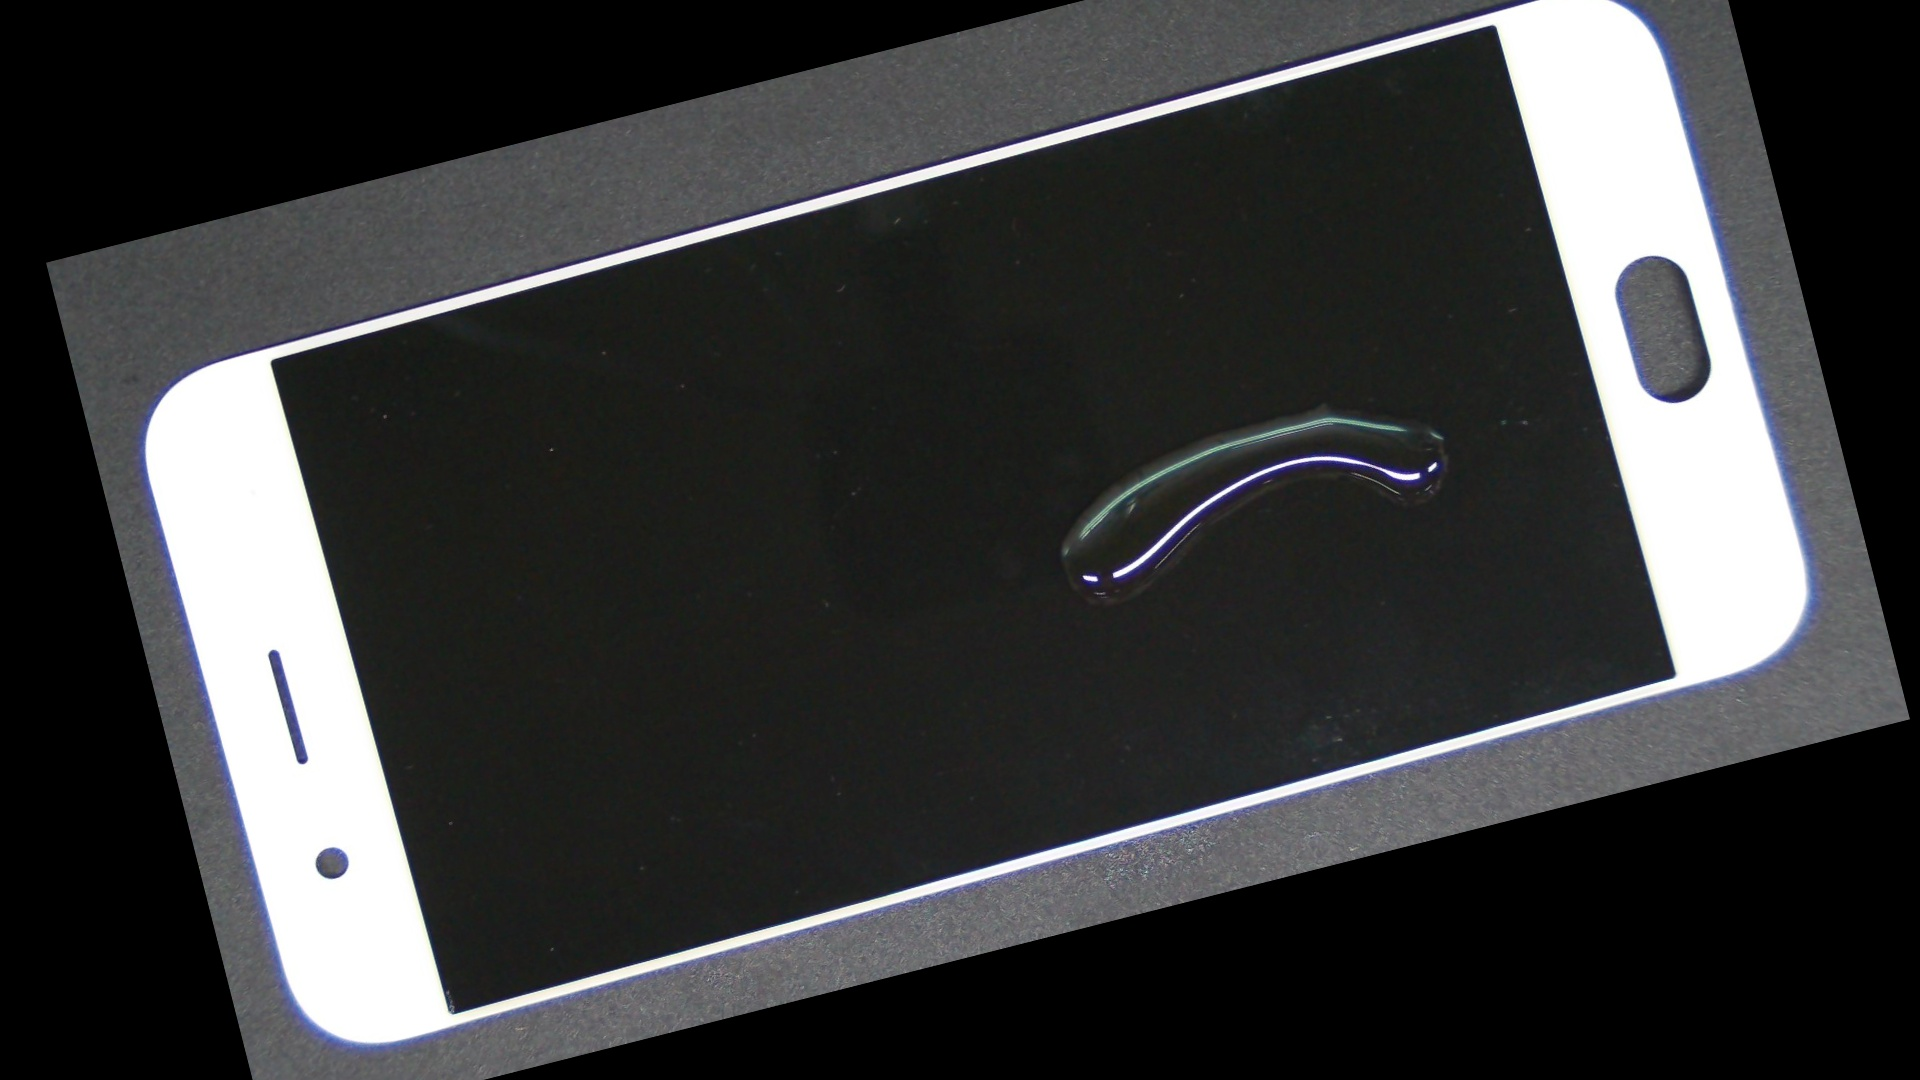oil: (684, 65, 1854, 769)
